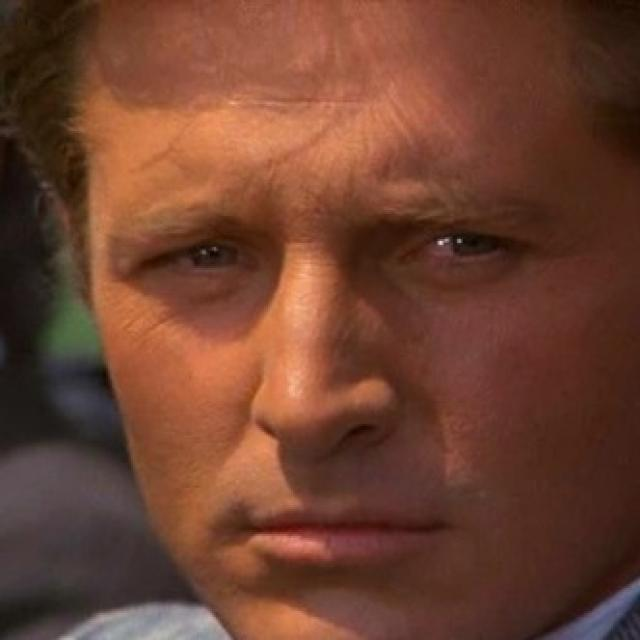Depress: (76, 0, 638, 638)
